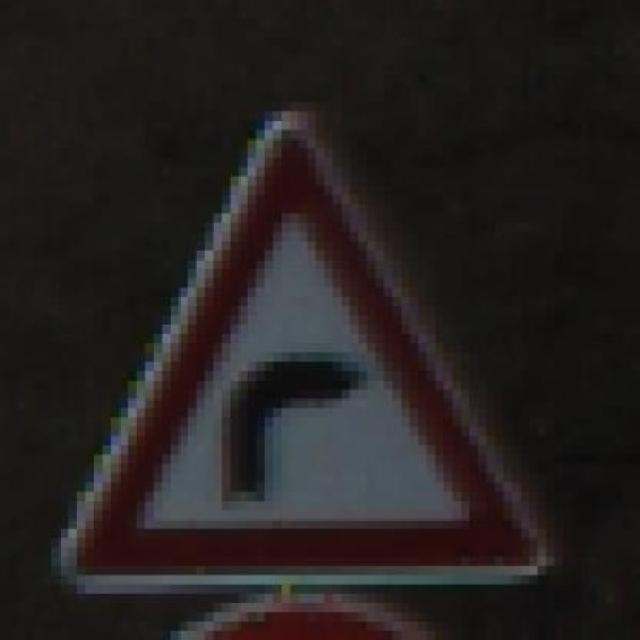Dangerous Rright Curve Ahead: (42, 92, 564, 612)
